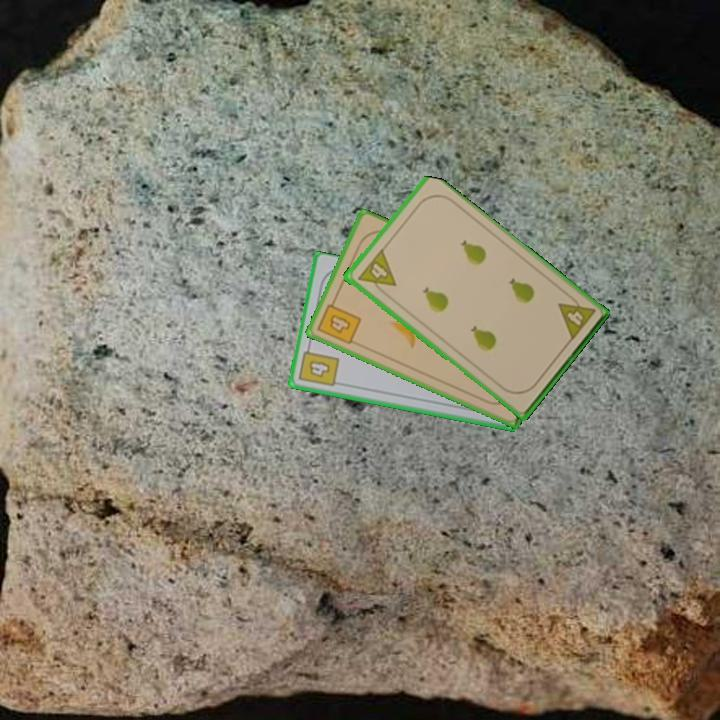4b: (314, 295, 364, 348), (295, 342, 342, 390)
4p: (353, 247, 399, 299), (554, 289, 598, 343)
